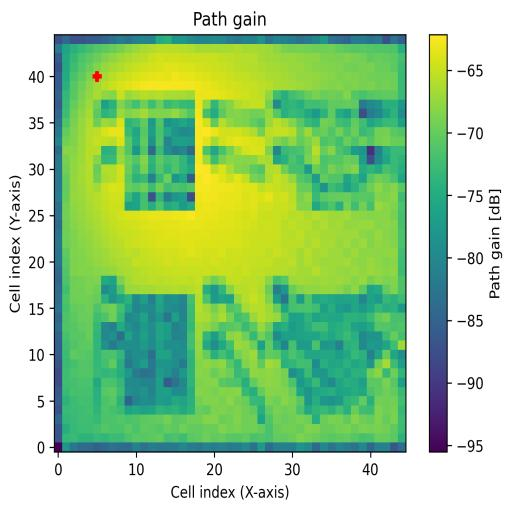Concrete: (296, 92, 375, 212)
Glass: (125, 89, 196, 210)
Metal: (290, 295, 375, 413)
Wood: (118, 294, 196, 414)
